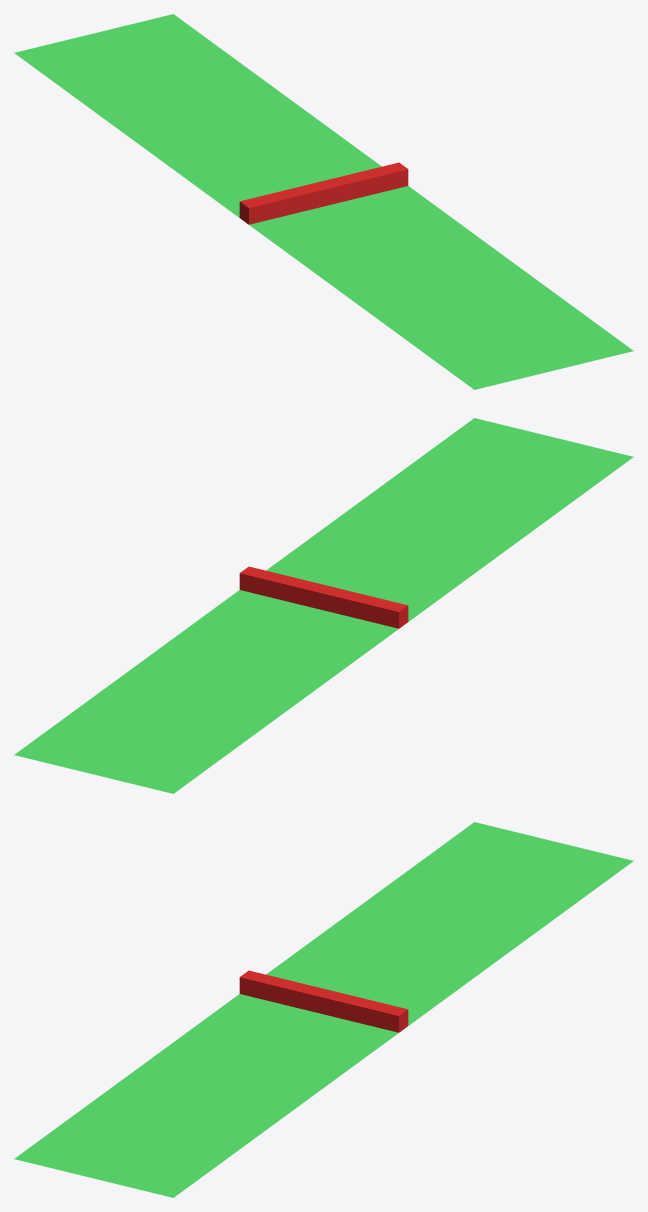
File: stage1.glb
3 views of the same model, one above another, from view 1: azimuth 30°, elevation 25°; view 2: azimuth 150°, elevation 25°; view 3: azimuth 330°, elevation 25° (orthographic).
Visible parts, largest first — view 1: ground, obstacle; view 2: ground, obstacle; view 3: ground, obstacle.
Boxes of the visible parts, left/top/right/bottom form: ground: left=14, top=14, right=633, bottom=389; obstacle: left=239, top=162, right=408, bottom=224; ground: left=14, top=418, right=633, bottom=793; obstacle: left=239, top=566, right=408, bottom=628; ground: left=14, top=822, right=633, bottom=1197; obstacle: left=239, top=970, right=408, bottom=1032.
Bounding box in the file's own units: 20 × 2 × 100.
